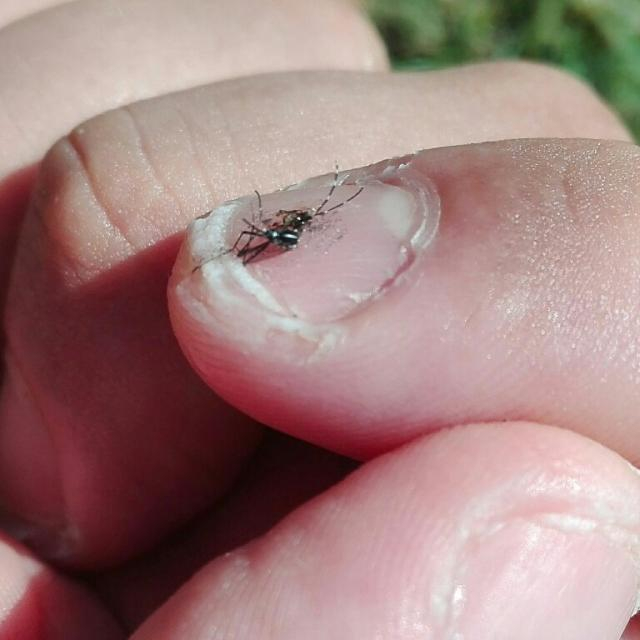albopictus: (195, 158, 379, 298)
